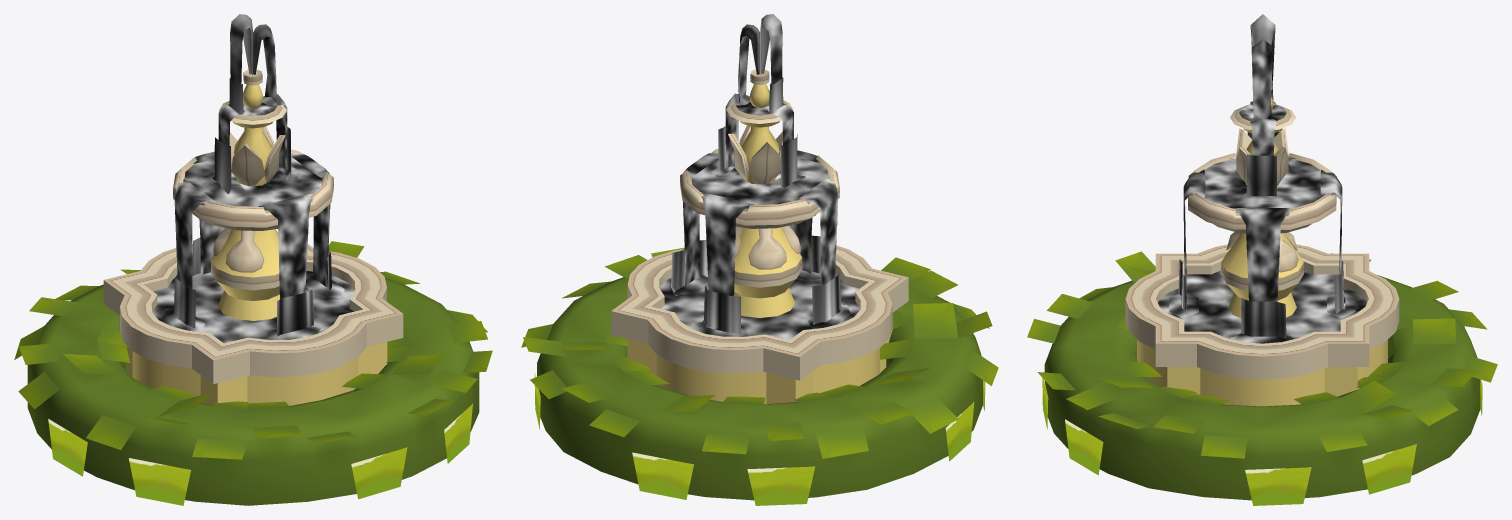
3 renders of one model, left to right at view 1: azimuth 30°, elevation 25°; view 2: azimuth 150°, elevation 25°; view 3: azimuth 270°, elevation 25°, orthographic. The views are drawn at different scales.
Visible parts, largest first — view 1: V_GK_Circle_Bush, Model, B_Main_Fountain_Victorian_Water Variant; view 2: V_GK_Circle_Bush, Model, B_Main_Fountain_Victorian_Water Variant; view 3: V_GK_Circle_Bush, Model, B_Main_Fountain_Victorian_Water Variant.
Boxes of the visible parts, x1,y1,x2,y2 form: V_GK_Circle_Bush: (14, 241, 492, 505); Model: (103, 69, 403, 405); B_Main_Fountain_Victorian_Water Variant: (152, 14, 354, 343); V_GK_Circle_Bush: (521, 247, 998, 505); Model: (611, 69, 908, 404); B_Main_Fountain_Victorian_Water Variant: (659, 14, 860, 339); V_GK_Circle_Bush: (1027, 251, 1497, 505); Model: (1125, 81, 1399, 406); B_Main_Fountain_Victorian_Water Variant: (1158, 14, 1366, 343).
Size of the model in its own units: 5.6 by 5.15 by 5.6.
3 materials, 3 textured.
